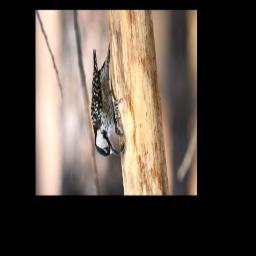Woodpecker: (91, 44, 123, 158)
